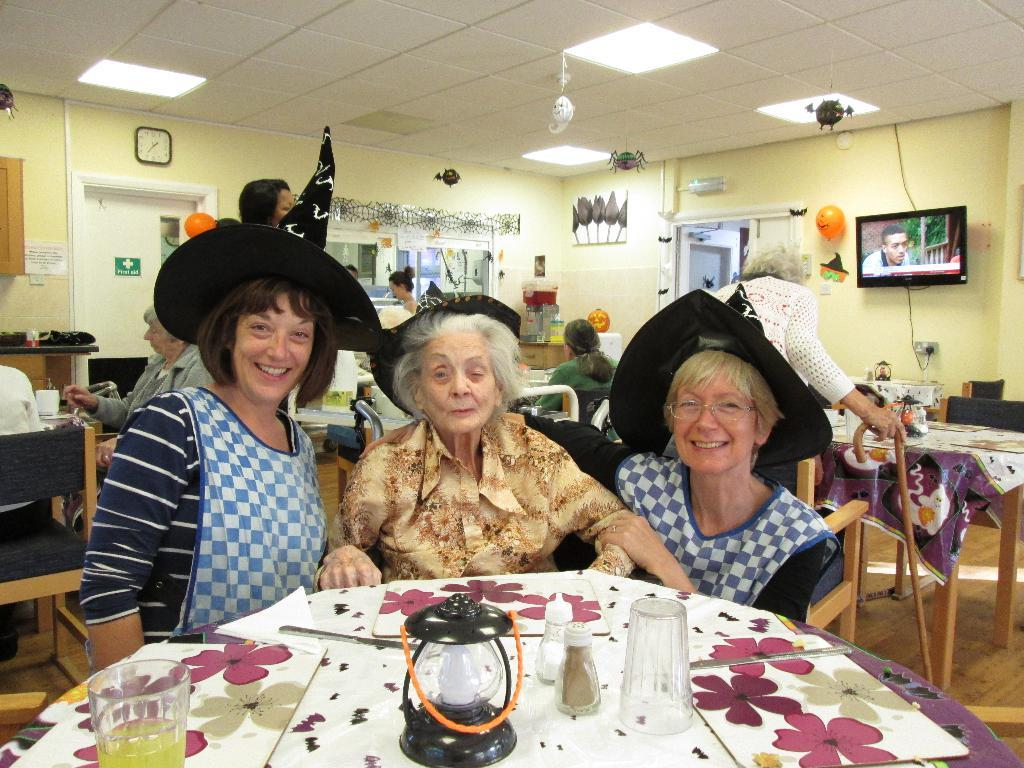Hat: (151, 126, 384, 346), (609, 282, 832, 464), (366, 296, 522, 415)
